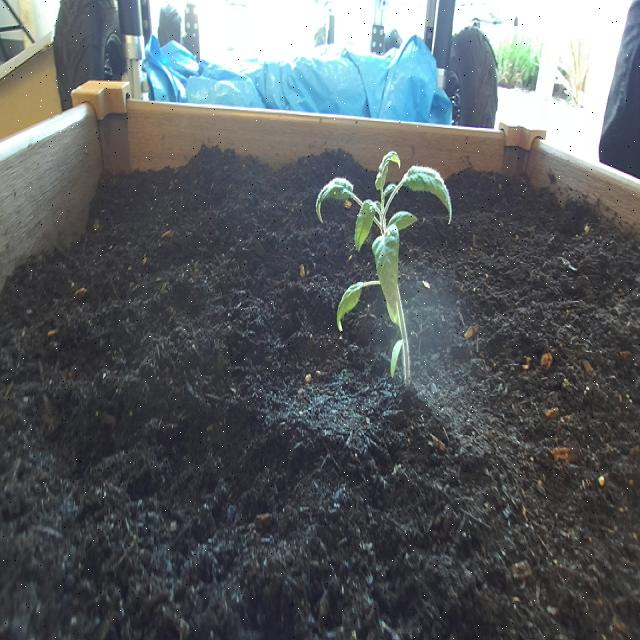Healthy: (315, 147, 453, 398)
